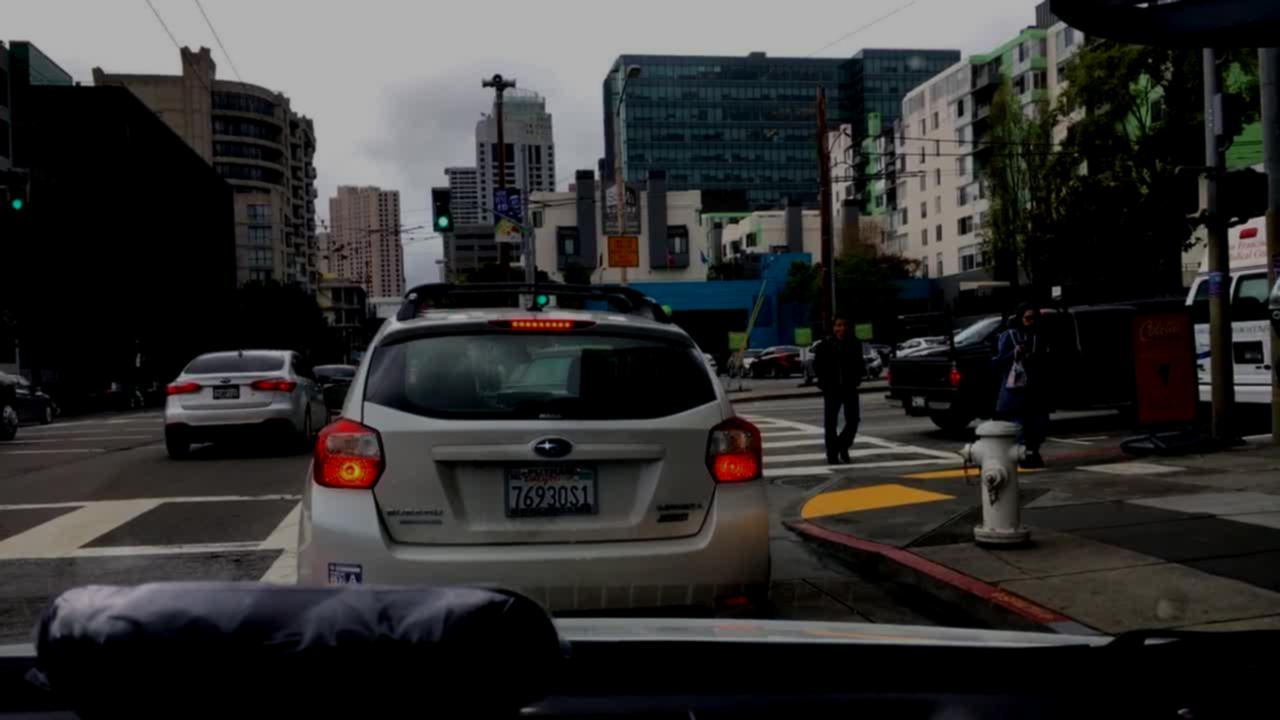subaru: (522, 429, 593, 462)
